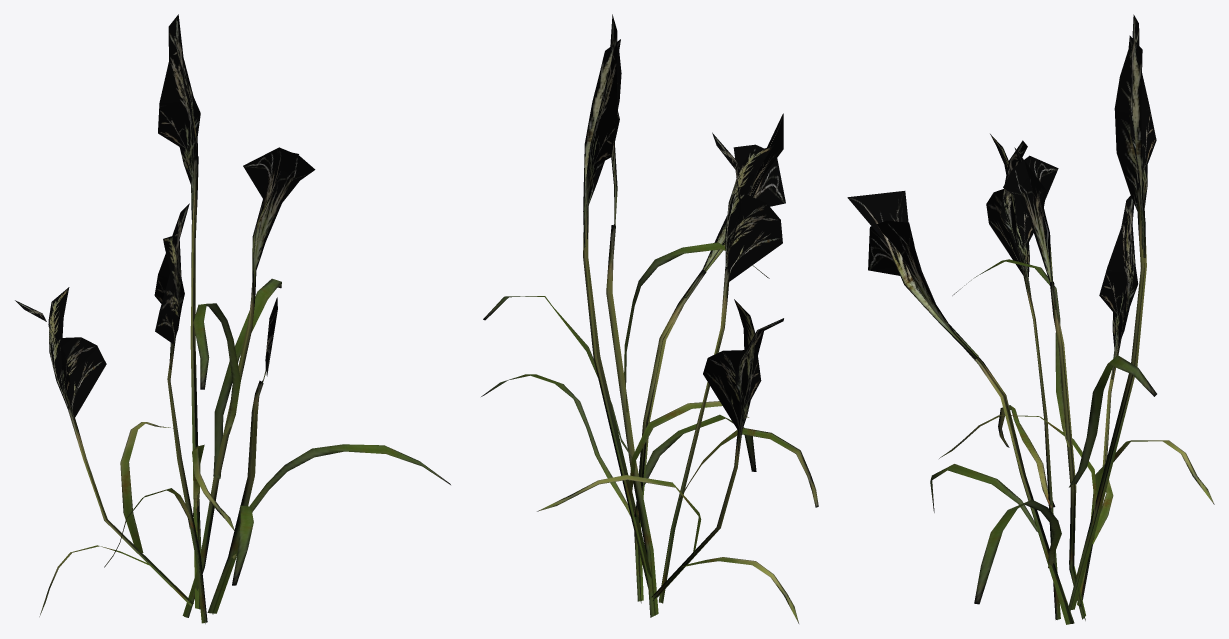
Rendered from SM_Grass_11.gltf.
The picture shows the model from 3 angles, left to right: view 1: azimuth 30°, elevation 25°; view 2: azimuth 150°, elevation 25°; view 3: azimuth 270°, elevation 25°; orthographic projection. The views are drawn at different scales.
Parts seen in each view (by area): view 1: SM_Grass_11; view 2: SM_Grass_11; view 3: SM_Grass_11.
Boxes of the visible parts, <box> form: SM_Grass_11: <box>15,14,450,623</box>; SM_Grass_11: <box>481,14,818,623</box>; SM_Grass_11: <box>847,14,1214,624</box>.
Size of the model in its own units: 0.153 by 0.2363 by 0.1282.
1 material, 1 textured.
